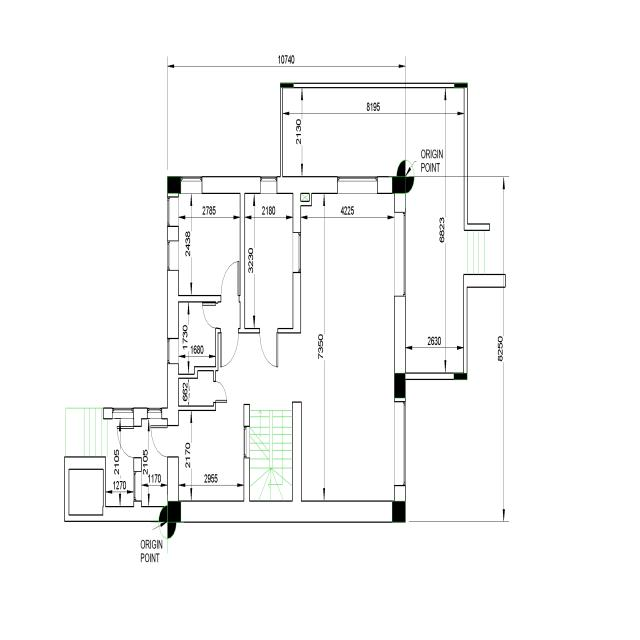Column: (394, 373, 406, 398), (167, 501, 181, 522), (392, 501, 406, 522), (167, 176, 181, 194), (392, 177, 405, 194), (454, 372, 467, 380), (454, 83, 468, 88), (280, 84, 294, 88)
Door: (219, 260, 242, 305), (258, 326, 279, 368), (219, 326, 239, 368), (116, 424, 134, 460), (150, 424, 169, 458), (202, 300, 217, 330), (215, 380, 228, 404)
Staircase: (250, 410, 292, 501), (64, 407, 109, 458), (464, 230, 490, 275)
Window: (393, 400, 407, 489), (394, 210, 406, 298), (336, 175, 378, 195), (166, 239, 180, 272), (292, 230, 302, 276), (180, 175, 203, 194), (167, 196, 180, 228), (167, 336, 180, 366), (259, 175, 278, 195), (111, 406, 135, 421), (132, 470, 142, 503), (146, 406, 162, 421), (243, 426, 250, 458)
